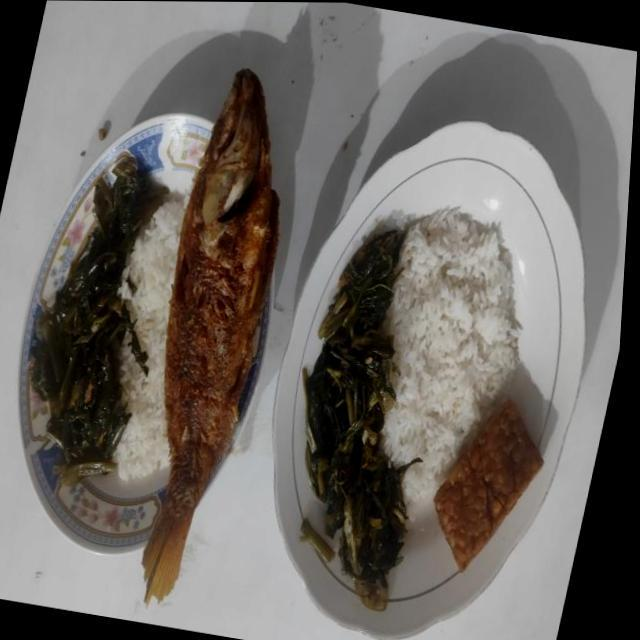ikan_mujair: (143, 70, 280, 602)
nasi_putih: (382, 207, 522, 508), (114, 195, 188, 479)
tempe_goreng: (434, 399, 544, 572)
tumis_kangkung: (28, 153, 170, 485), (303, 229, 422, 612)
